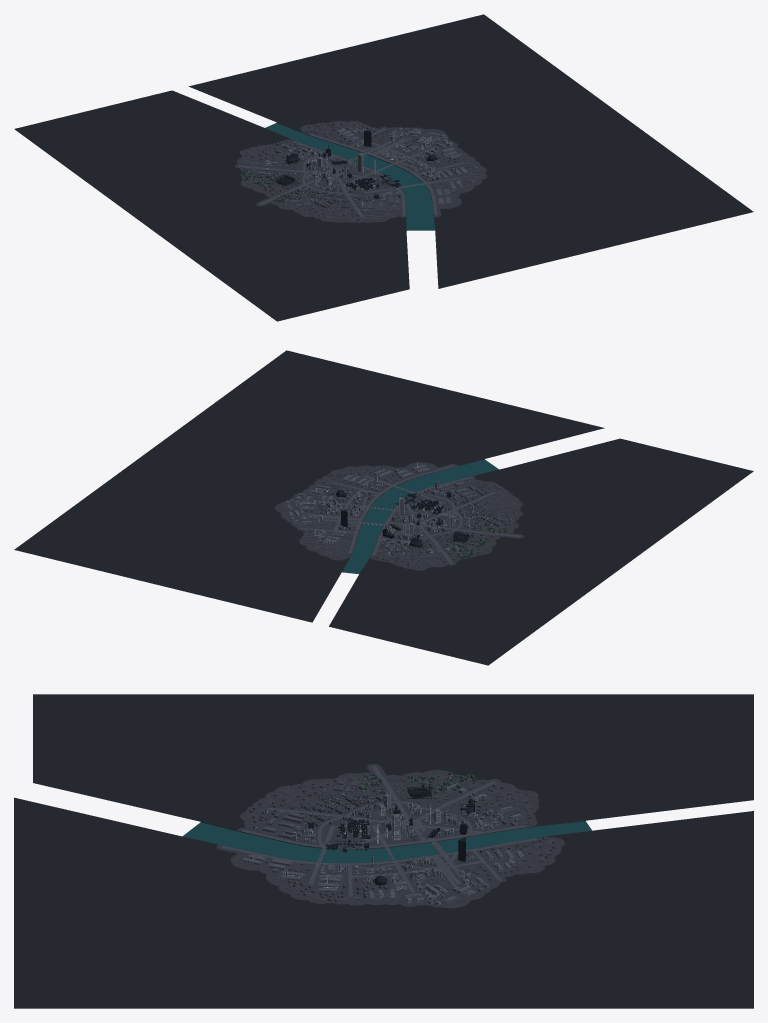
3 views of the same model, one above another, from view 1: azimuth 30°, elevation 25°; view 2: azimuth 150°, elevation 25°; view 3: azimuth 270°, elevation 25° (orthographic). The views are drawn at different scales.
Visible parts, largest first — view 1: 郊野地面_东, 郊野地面_西, 城市地面, 街区pad, 河面, 干道, 描线_always_填充; view 2: 郊野地面_东, 郊野地面_西, 城市地面, 街区pad, 河面, 干道, 描线_always_填充; view 3: 郊野地面_东, 郊野地面_西, 城市地面, 街区pad, 河面, 干道, 描线_always_填充.
Boxes of the visible parts, box(x1,y1,x2,y2) form: 郊野地面_东: box(188, 14, 753, 288); 郊野地面_西: box(14, 90, 409, 321); 城市地面: box(234, 121, 487, 222); 街区pad: box(243, 122, 480, 221); 河面: box(265, 123, 434, 230); 干道: box(238, 128, 464, 217); 描线_always_填充: box(259, 127, 452, 201); 郊野地面_东: box(14, 350, 604, 622); 郊野地面_西: box(329, 438, 753, 665); 城市地面: box(275, 462, 524, 570); 街区pad: box(282, 467, 518, 568); 河面: box(342, 459, 498, 573); 干道: box(300, 465, 519, 563); 描线_always_填充: box(287, 481, 488, 555); 郊野地面_东: box(14, 797, 753, 1008); 郊野地面_西: box(33, 694, 753, 848); 城市地面: box(216, 764, 564, 908); 街区pad: box(240, 773, 558, 905); 河面: box(182, 821, 591, 862); 干道: box(221, 766, 536, 896); 描线_always_填充: box(296, 784, 523, 903).
Size of what is drawn, in the model's own units: 280000 by 10248 by 278685.
